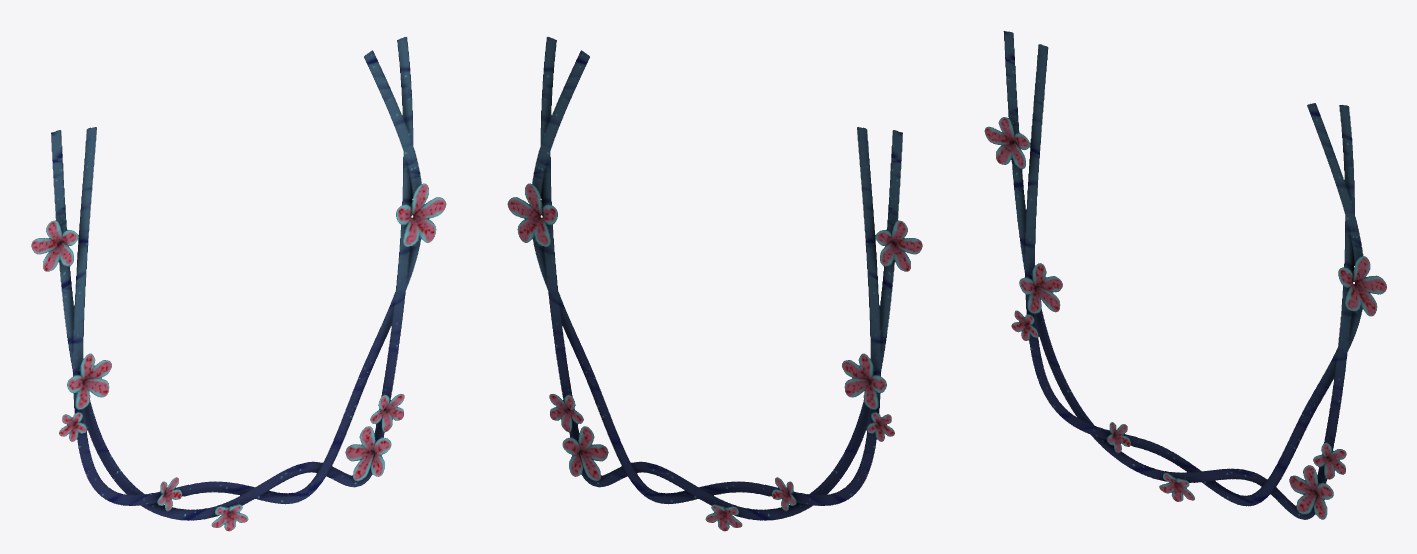
The model's file is MarshVine_a01.fbx.
3 renders of one model, left to right at view 1: azimuth 30°, elevation 25°; view 2: azimuth 150°, elevation 25°; view 3: azimuth 330°, elevation 25°, orthographic. The views are drawn at different scales.
Parts seen in each view (by area): view 1: Vine_a01; view 2: Vine_a01; view 3: Vine_a01.
Boxes of the visible parts, x1,y1,x2,y2 form: Vine_a01: [31, 37, 446, 531]; Vine_a01: [507, 37, 922, 531]; Vine_a01: [984, 31, 1386, 519].
Size of the model in its own units: 178 by 184 by 0.
